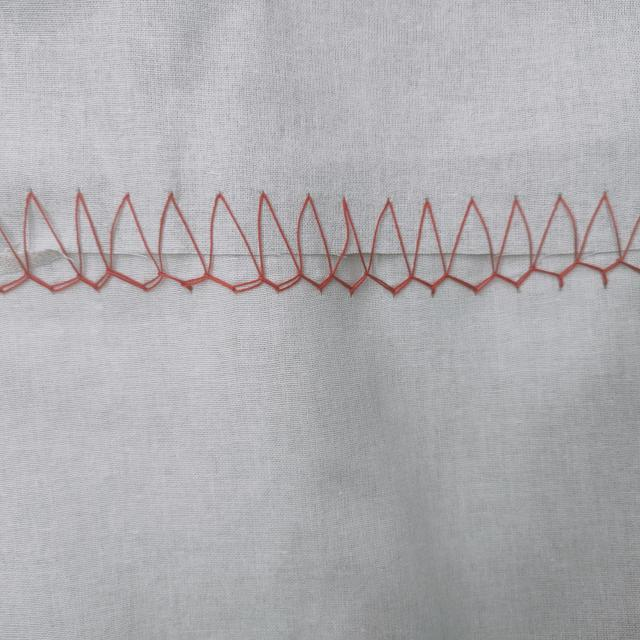gray stitch: (4, 182, 638, 303)
